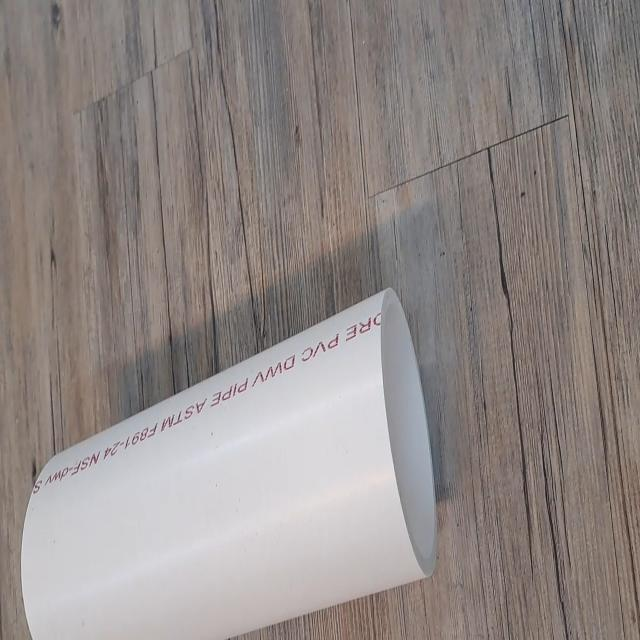CORAL: (18, 282, 440, 640)
